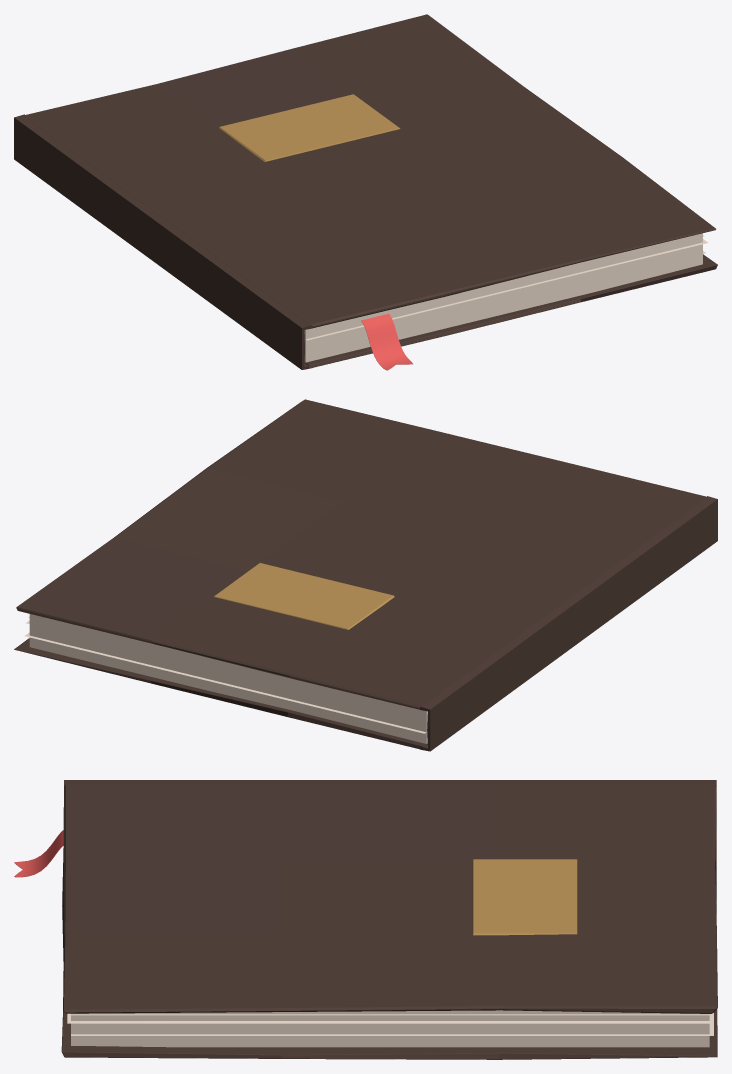
The model's file is journalClosed.fbx.
3 renders of one model, top to bottom at view 1: azimuth 30°, elevation 25°; view 2: azimuth 150°, elevation 25°; view 3: azimuth 270°, elevation 25°, orthographic. The views are drawn at different scales.
Visible parts, largest first — view 1: frontCover, Spine, frontPages.001, frontCover.002, frontPages, frontCover.001, frontPages.004, frontPages.002; view 2: frontCover, Spine, frontPages.001, frontPages, frontCover.002, frontCover.001, frontPages.003; view 3: frontCover, frontPages.001, frontPages, frontCover.001, frontCover.002, Spine, frontPages.002, frontPages.003, frontPages.004.
Boxes of the visible parts, x1,y1,x2,y2 form: frontCover: [23, 14, 715, 328]; Spine: [14, 114, 312, 369]; frontPages.001: [304, 248, 702, 362]; frontCover.002: [219, 94, 400, 161]; frontPages: [304, 233, 702, 345]; frontCover.001: [304, 254, 717, 368]; frontPages.004: [361, 313, 412, 370]; frontPages.002: [306, 235, 708, 340]; frontCover: [16, 399, 708, 709]; Spine: [420, 496, 717, 751]; frontPages.001: [29, 630, 427, 743]; frontPages: [29, 614, 427, 726]; frontCover.002: [214, 563, 394, 629]; frontCover.001: [14, 638, 427, 749]; frontPages.003: [24, 632, 426, 733]; frontCover: [63, 784, 717, 1013]; frontPages.001: [71, 1027, 709, 1047]; frontPages: [71, 1010, 709, 1027]; frontCover.001: [61, 828, 717, 1059]; frontCover.002: [472, 859, 577, 935]; Spine: [64, 780, 716, 827]; frontPages.002: [67, 1013, 709, 1023]; frontPages.003: [71, 1013, 713, 1035]; frontPages.004: [14, 830, 63, 877].
Bounding box in the file's own units: 12.64 × 1.33 × 16.26.
